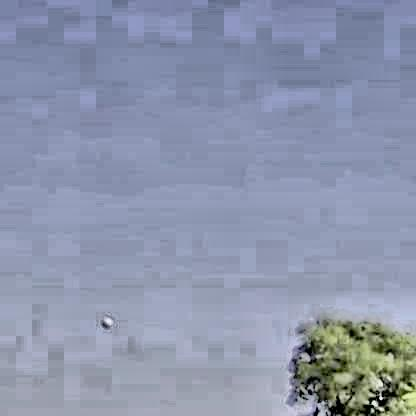golfball: (99, 315, 110, 326)
